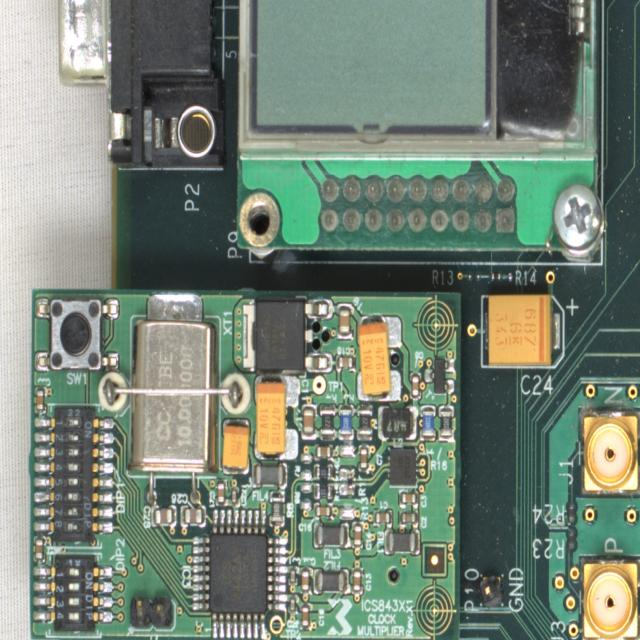IC: (191, 508, 286, 638), (388, 447, 417, 488)
button: (34, 296, 118, 370)
capacitor: (336, 302, 354, 340), (150, 504, 177, 527), (300, 403, 316, 441), (180, 505, 204, 527), (398, 489, 418, 509), (32, 534, 46, 562), (350, 567, 364, 595), (314, 442, 333, 462), (397, 509, 418, 527), (33, 386, 46, 414), (335, 354, 355, 372), (300, 566, 312, 596), (351, 520, 364, 547), (373, 509, 392, 527), (313, 501, 333, 518), (358, 444, 370, 472), (409, 372, 421, 400), (300, 602, 312, 630), (215, 478, 226, 506), (230, 486, 240, 506), (288, 566, 298, 585), (288, 595, 297, 613)
clock: (124, 291, 218, 503)
component text: (150, 336, 197, 451), (493, 305, 538, 350), (54, 416, 64, 532), (258, 404, 282, 429), (362, 345, 385, 370), (84, 569, 93, 623), (55, 568, 64, 619), (384, 417, 408, 433), (258, 430, 281, 446), (363, 371, 386, 386), (82, 499, 92, 530), (361, 336, 383, 346), (258, 394, 280, 404), (83, 419, 92, 438), (65, 408, 81, 418), (271, 501, 280, 517), (441, 415, 450, 429), (424, 414, 432, 429), (361, 414, 368, 428), (324, 414, 331, 428), (342, 415, 348, 429), (319, 486, 326, 496), (320, 468, 326, 475)
connector: (54, 0, 225, 177), (578, 405, 640, 499), (578, 553, 640, 640), (127, 595, 173, 631), (479, 574, 504, 608)
display: (214, 0, 603, 264)
electrolytic capacitor: (480, 293, 564, 369), (356, 313, 402, 402), (254, 374, 298, 461), (221, 418, 250, 474)
emi filter: (312, 521, 349, 549), (312, 568, 349, 594), (384, 528, 420, 554), (252, 462, 288, 488)
inductor: (377, 404, 417, 441)
pads: (300, 453, 312, 480), (301, 483, 312, 511), (340, 443, 356, 458), (339, 506, 355, 520), (466, 270, 481, 280)
pins: (316, 173, 519, 236)
resistor: (436, 404, 454, 440), (318, 404, 336, 440), (420, 404, 437, 441), (269, 488, 284, 528), (356, 403, 372, 440), (337, 403, 353, 438), (338, 468, 355, 496), (313, 464, 333, 480), (313, 483, 332, 499), (566, 502, 576, 524), (567, 528, 575, 550), (489, 271, 502, 281)
switch: (34, 402, 114, 547), (32, 549, 113, 638)
test point: (268, 613, 284, 636), (312, 374, 327, 395)
transistor: (232, 295, 333, 372), (424, 356, 455, 395)
